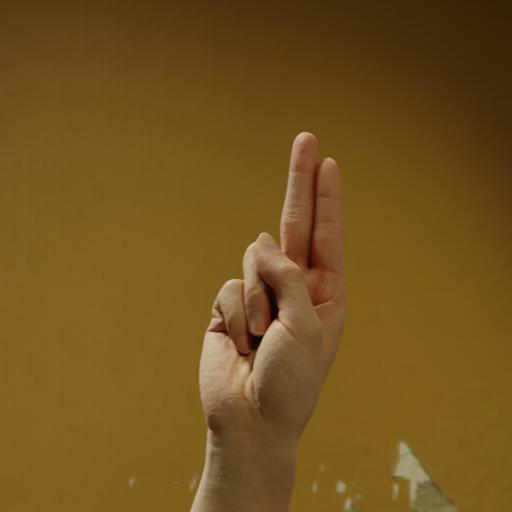U: (193, 132, 354, 438)
